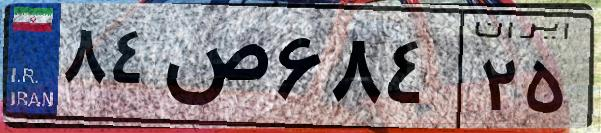2: (475, 38, 525, 113)
4: (385, 28, 445, 110), (110, 28, 158, 98)
5: (525, 38, 570, 115)
6: (270, 28, 330, 110)
8: (330, 28, 385, 110), (57, 26, 110, 100)
ص: (158, 20, 270, 120)
